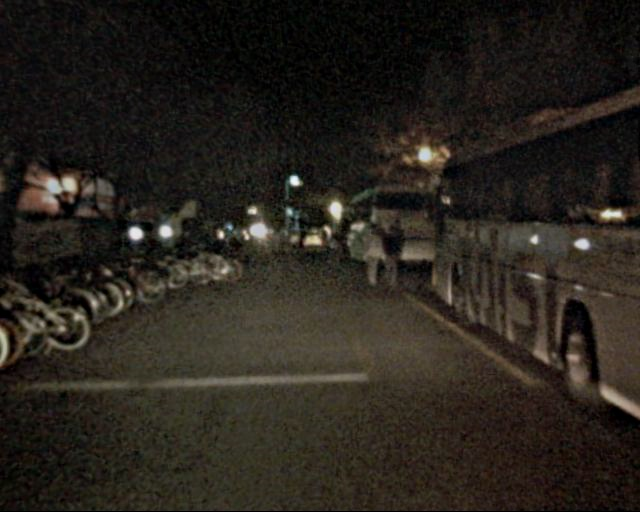person: (358, 222, 384, 286), (376, 224, 402, 287), (324, 225, 344, 273)
